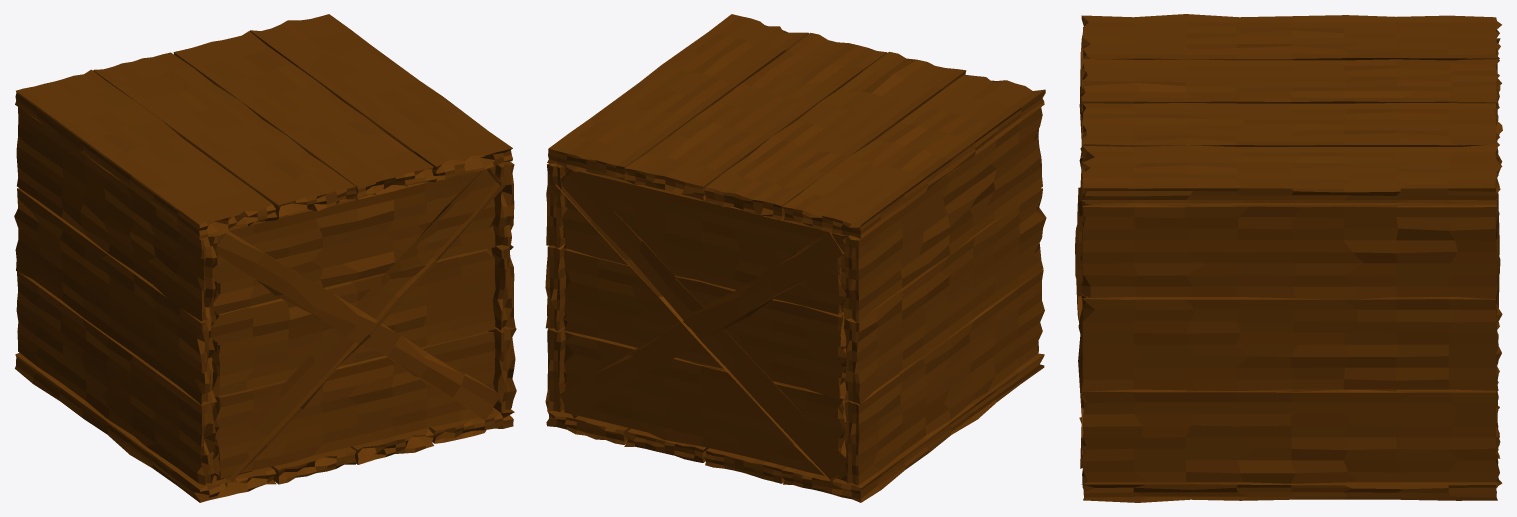
Rendered from fdefs.fbx.
3 renders of one model, left to right at view 1: azimuth 30°, elevation 25°; view 2: azimuth 150°, elevation 25°; view 3: azimuth 270°, elevation 25°, orthographic. The views are drawn at different scales.
Parts seen in each view (by area): view 1: Куб.063; view 2: Куб.063; view 3: Куб.063.
Part boxes in pixels (x1,y1,x2,y2): Куб.063: (14, 14, 516, 502); Куб.063: (545, 14, 1046, 502); Куб.063: (1075, 14, 1502, 502).
Bounding box in the file's own units: 416 × 354 × 430.
